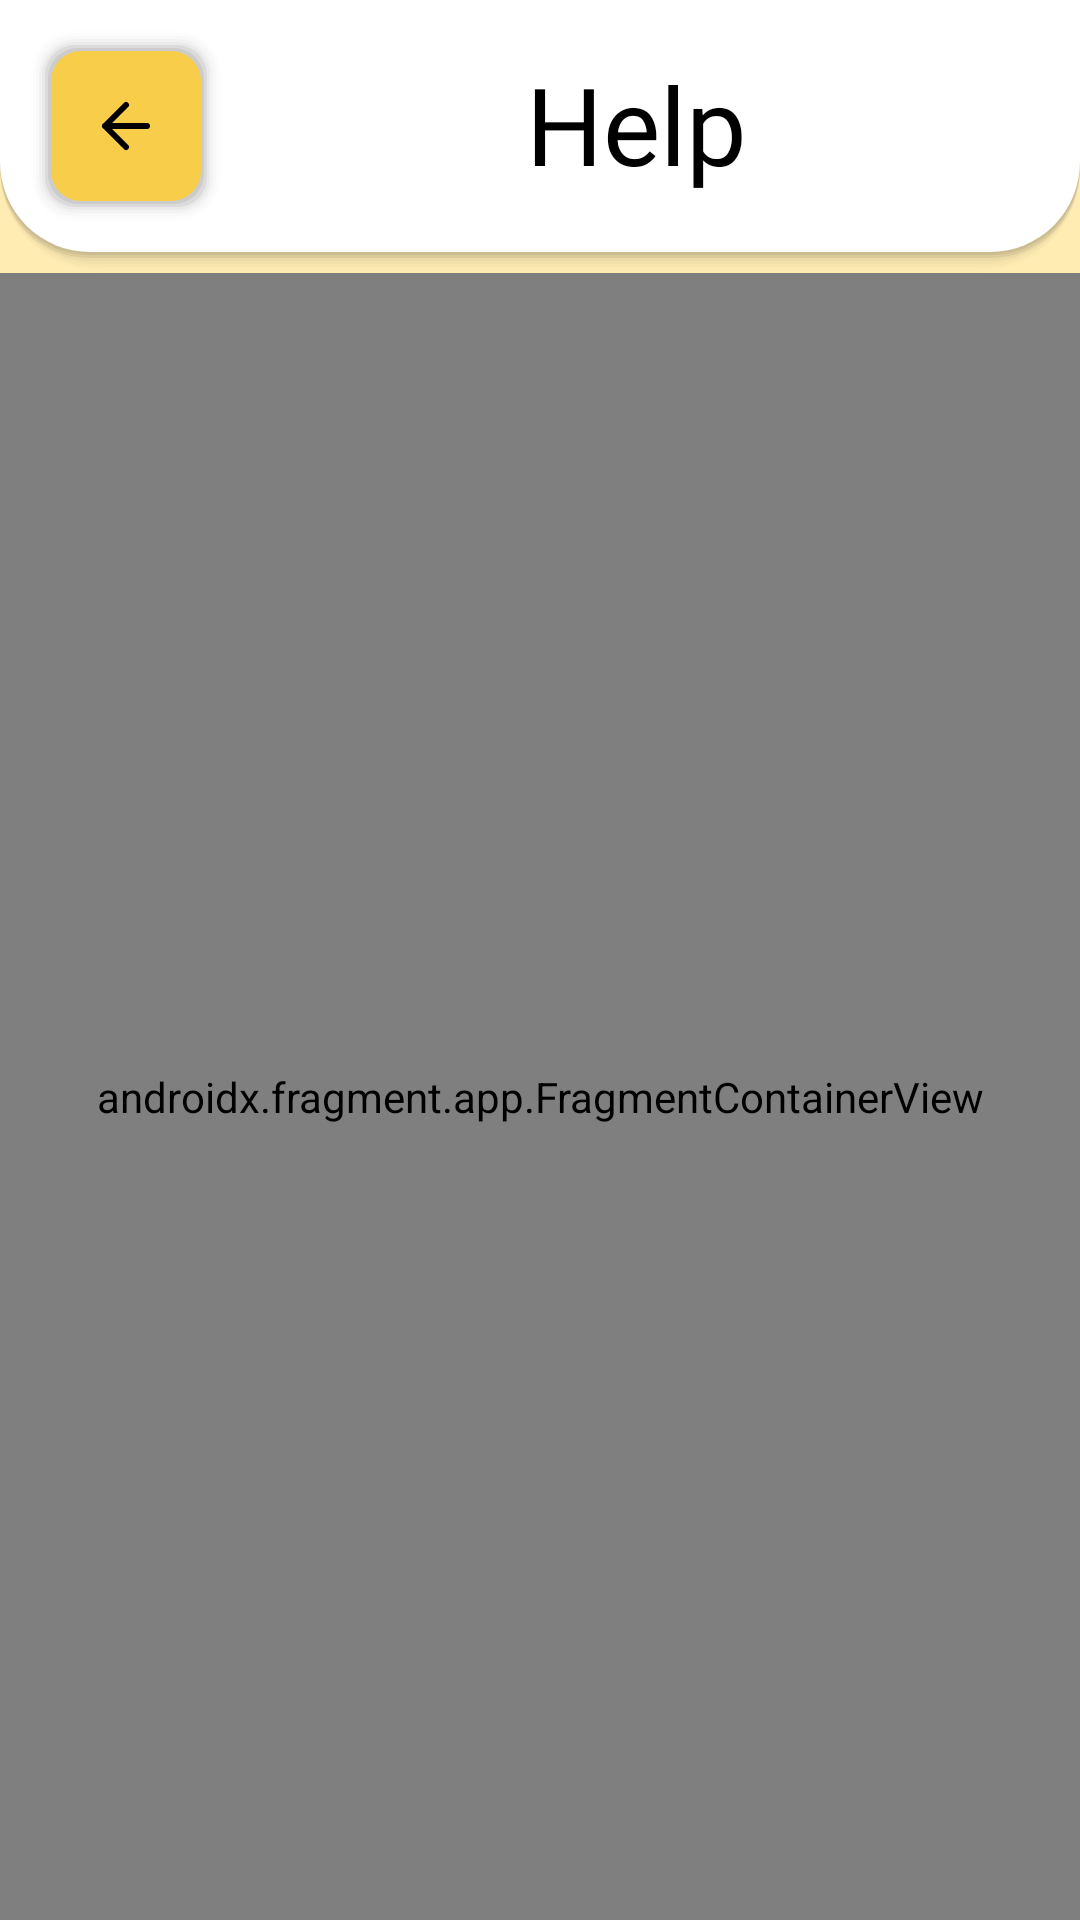

Screen size 1080x1920. Icon name, then its center in pixels as (x,y):
arrow left: (126,126)
